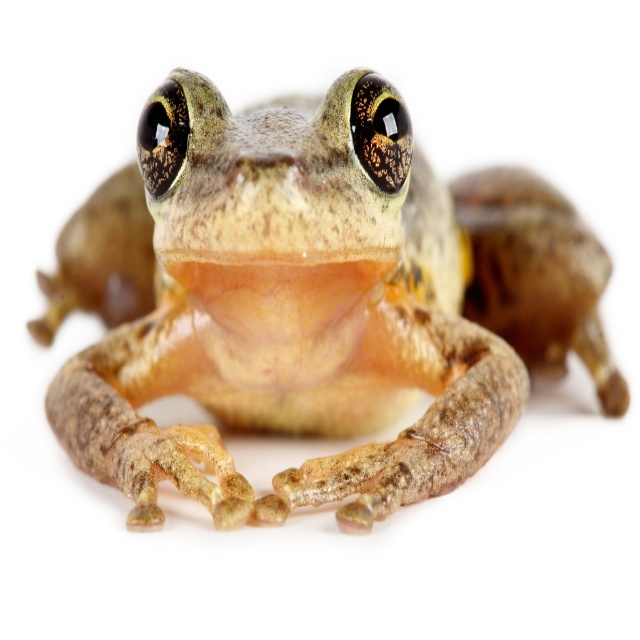Frog: (25, 64, 631, 532)
